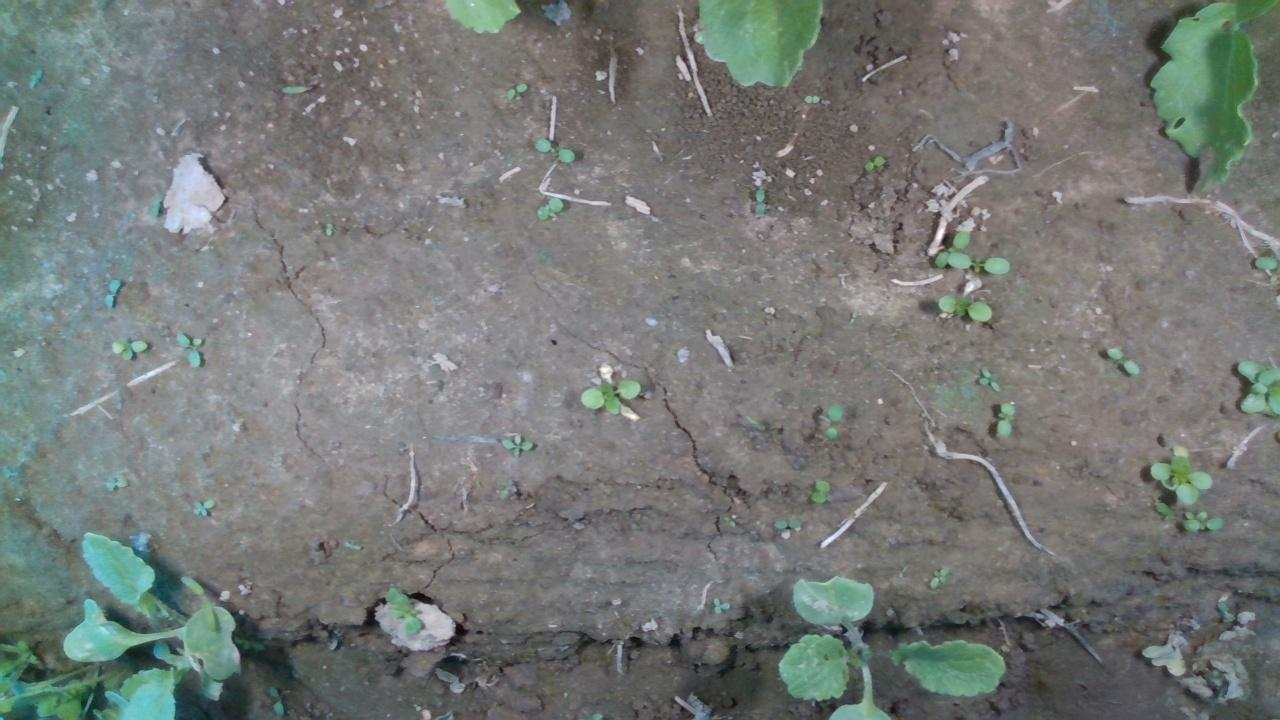weed: (580, 377, 640, 415), (935, 292, 992, 321), (532, 135, 575, 163), (107, 333, 150, 360), (1104, 345, 1142, 375), (174, 331, 203, 369), (816, 402, 842, 438), (499, 433, 535, 457), (994, 399, 1015, 440), (532, 196, 563, 219), (102, 277, 123, 309), (927, 562, 951, 588), (976, 364, 999, 391), (810, 477, 829, 502), (503, 81, 528, 98), (754, 186, 767, 216), (191, 498, 215, 514), (105, 474, 128, 490), (769, 517, 801, 528), (863, 155, 886, 170), (710, 596, 729, 613)
